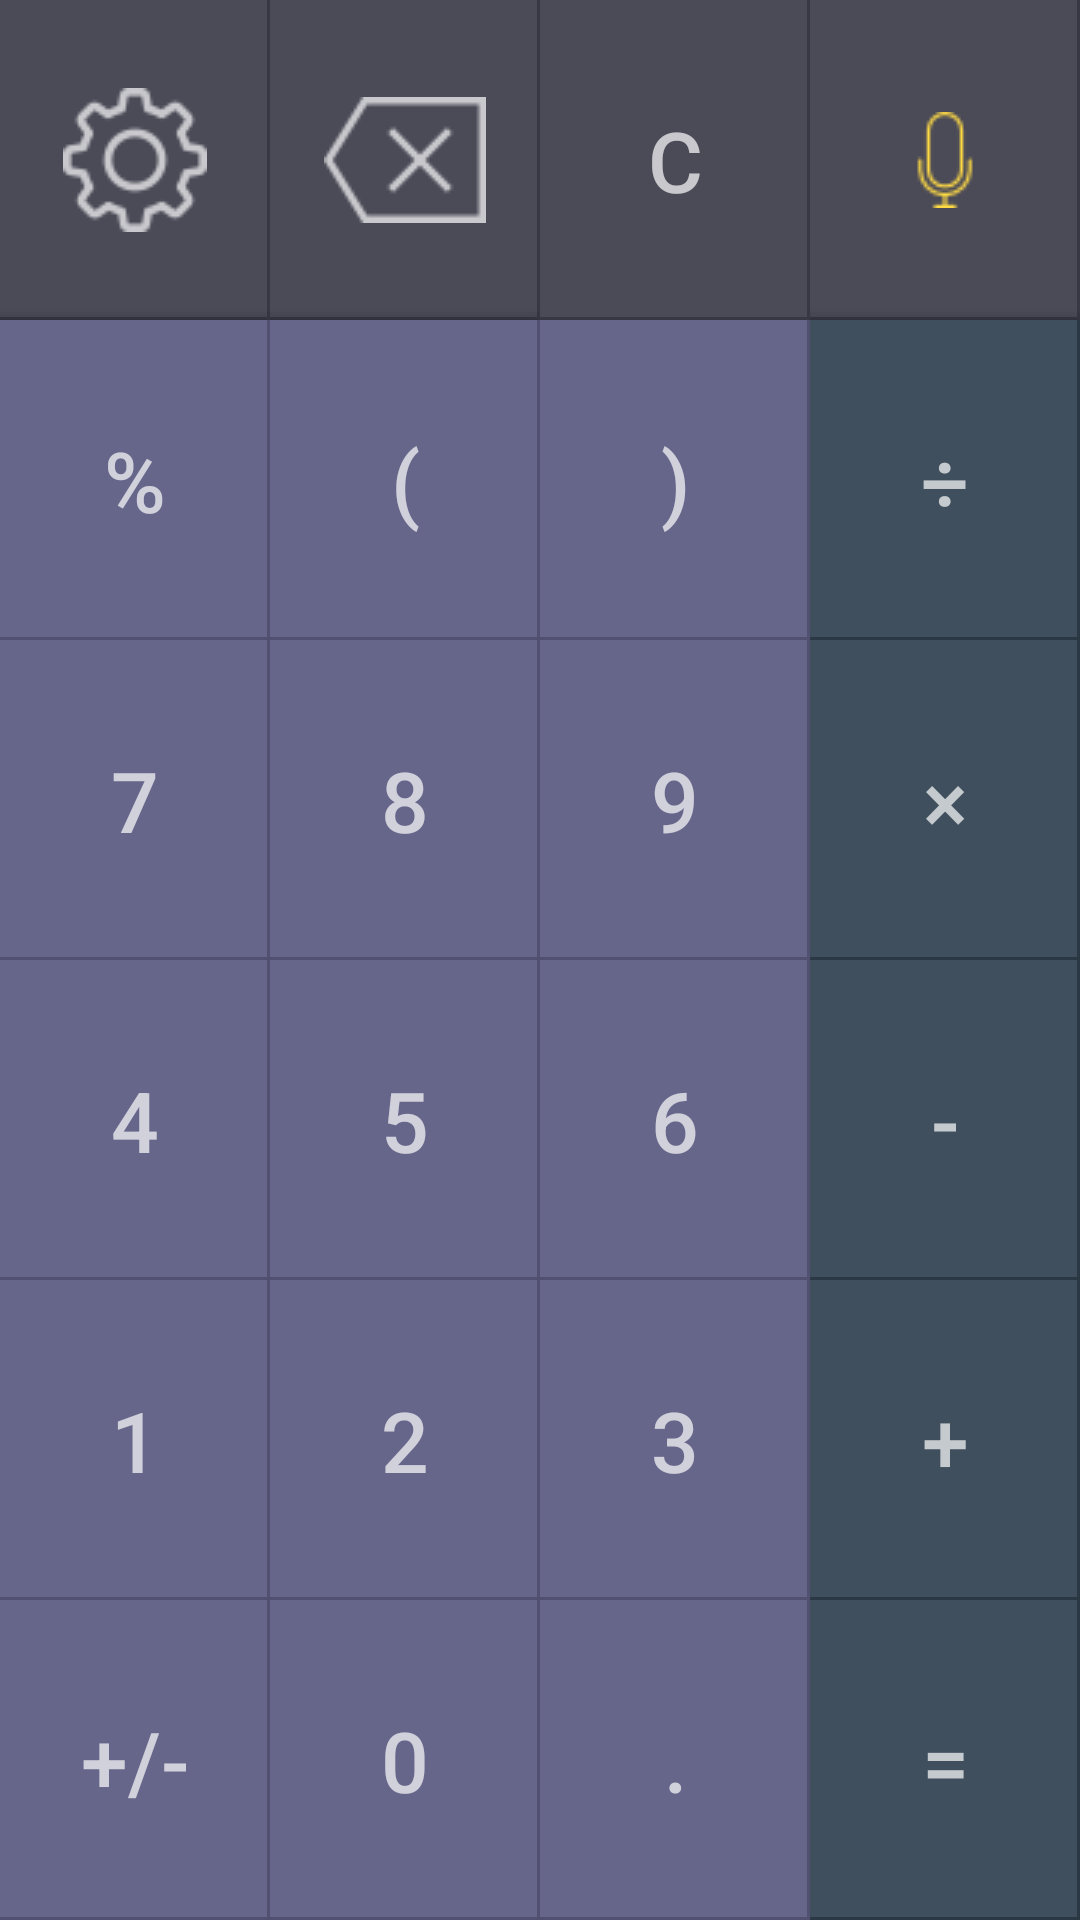

Icon click points for this 1080w x 1920h phone screenshot, format point (x, y):
delete: point (431, 205)
settings: point (135, 160)
speech: point (945, 160)
